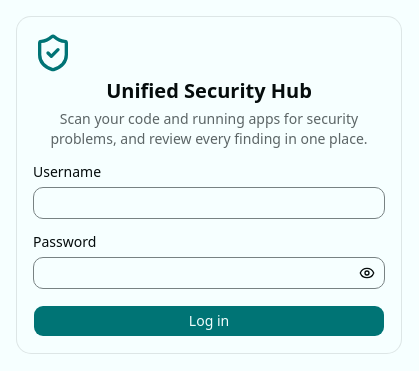
Test: LoginScreen › disables the button and shows a spinner while logging in, so it cannot be sent twice
The width and height of the screenshot is (419, 371).
Type "demo" into the field labelled "Username". click: (209, 203)
box: [33,187,385,219]
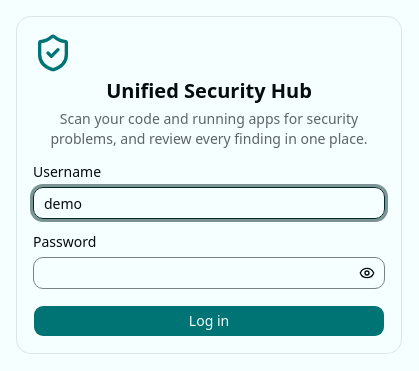
Type "demo123" into the password field labelled "Password". click: (209, 273)
box: [33,257,385,289]
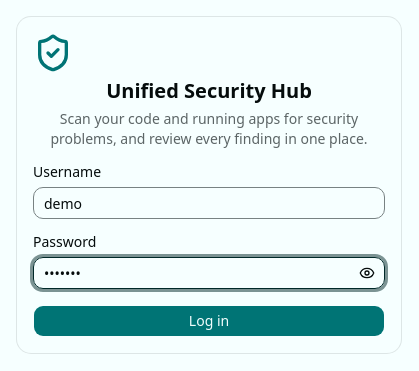
Click the button "Log in". click: (209, 321)
box: [33,305,385,337]
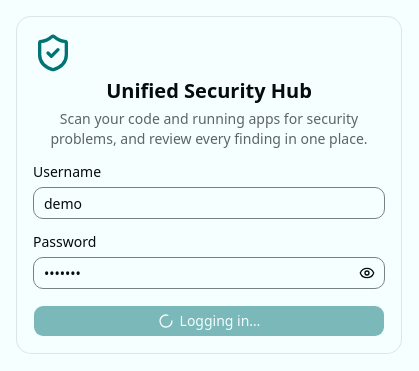
Expected: the button "Logging in…" is disabled
Click the button "Logging in…". click: (209, 321)
box: [33,305,385,337]
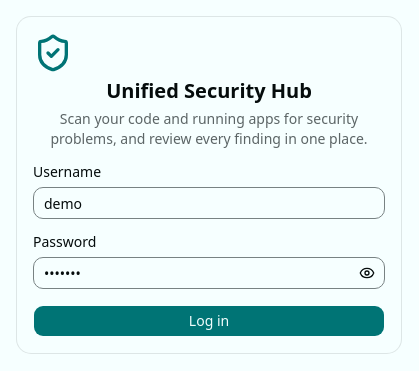
Expected: the button "Log in" is enabled, [33,305,385,337]
